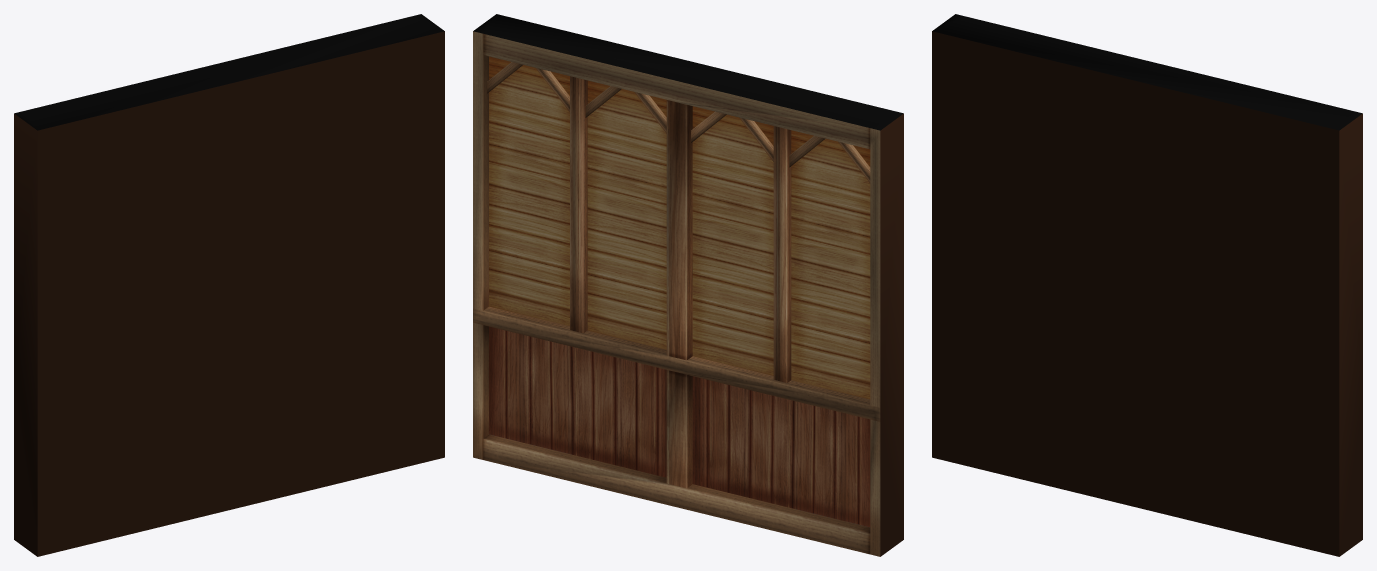
The model's file is a_SWGiwall03A.glb.
3 views of the same model, side by side, from view 1: azimuth 30°, elevation 25°; view 2: azimuth 150°, elevation 25°; view 3: azimuth 330°, elevation 25° (orthographic).
Parts seen in each view (by area): view 1: a_SWGiwall03A; view 2: a_SWGiwall03A; view 3: a_SWGiwall03A.
Part boxes in pixels (box(x1,y1,x2,y2)): a_SWGiwall03A: box(14, 14, 444, 556); a_SWGiwall03A: box(473, 14, 903, 556); a_SWGiwall03A: box(932, 14, 1362, 556).
Size of the model in its own units: 3 by 3 by 0.3004.
Materials: 3 (3 with a texture image).
